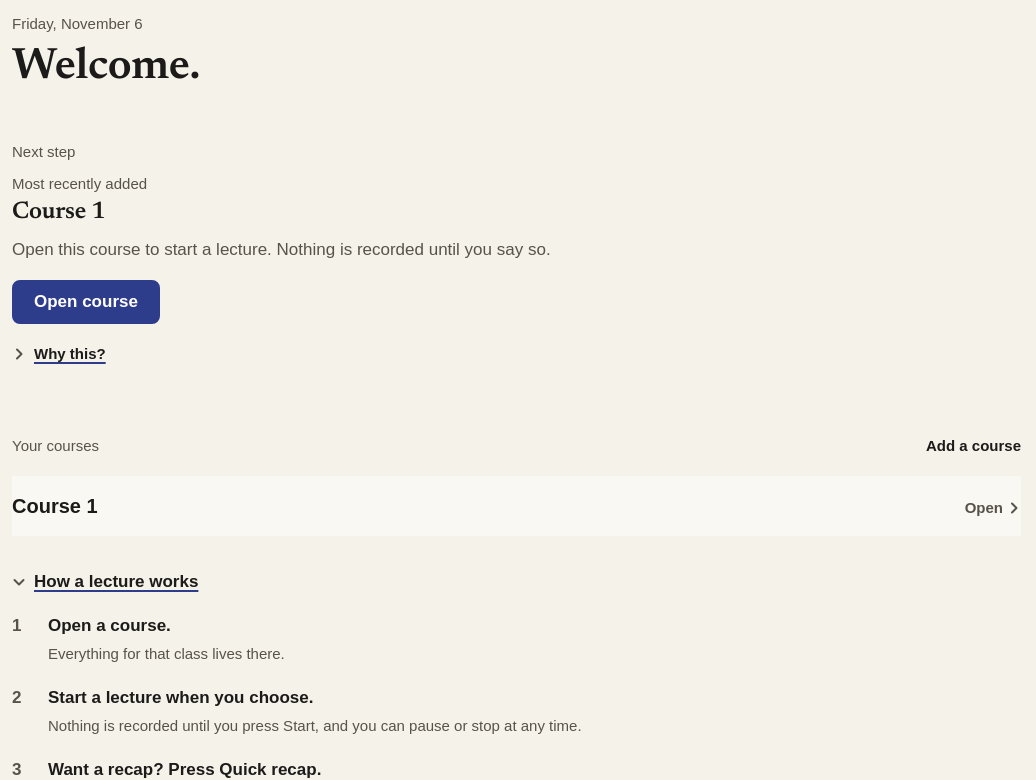
Scenario: DashboardView › explains the choice via Why this?
Click the heading "Why this?". click: {"x": 59, "y": 354}
box: [12,345,106,362]
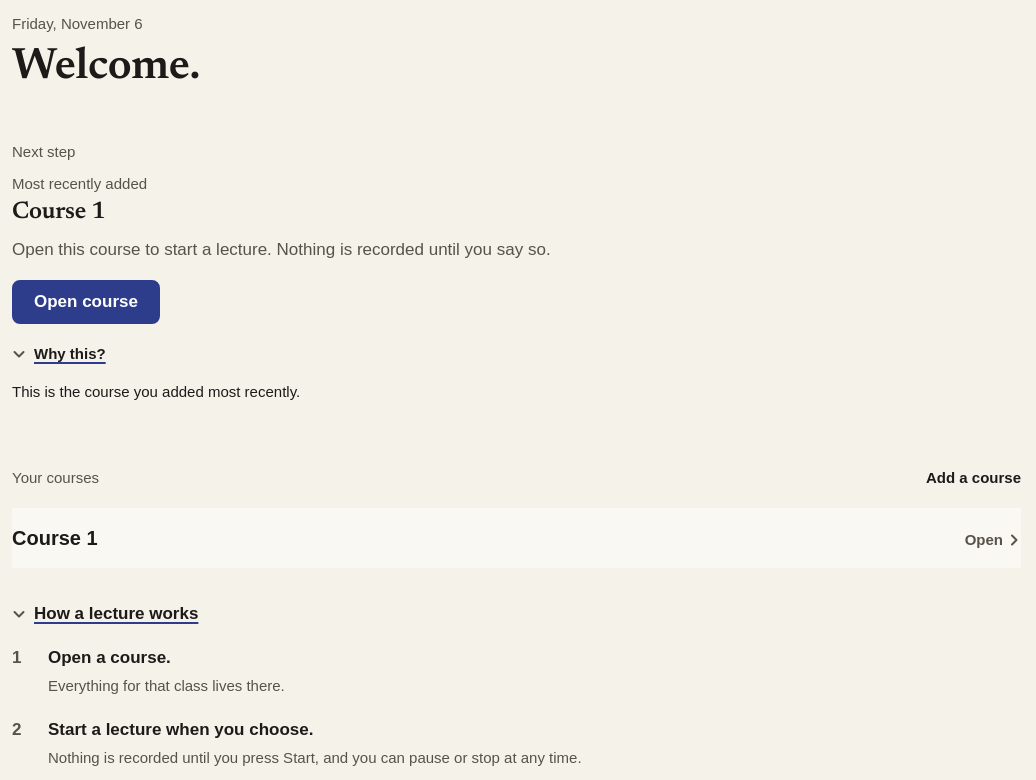
Expected: the text "This is the course you added most recently." is shown, [12,383,300,400]
